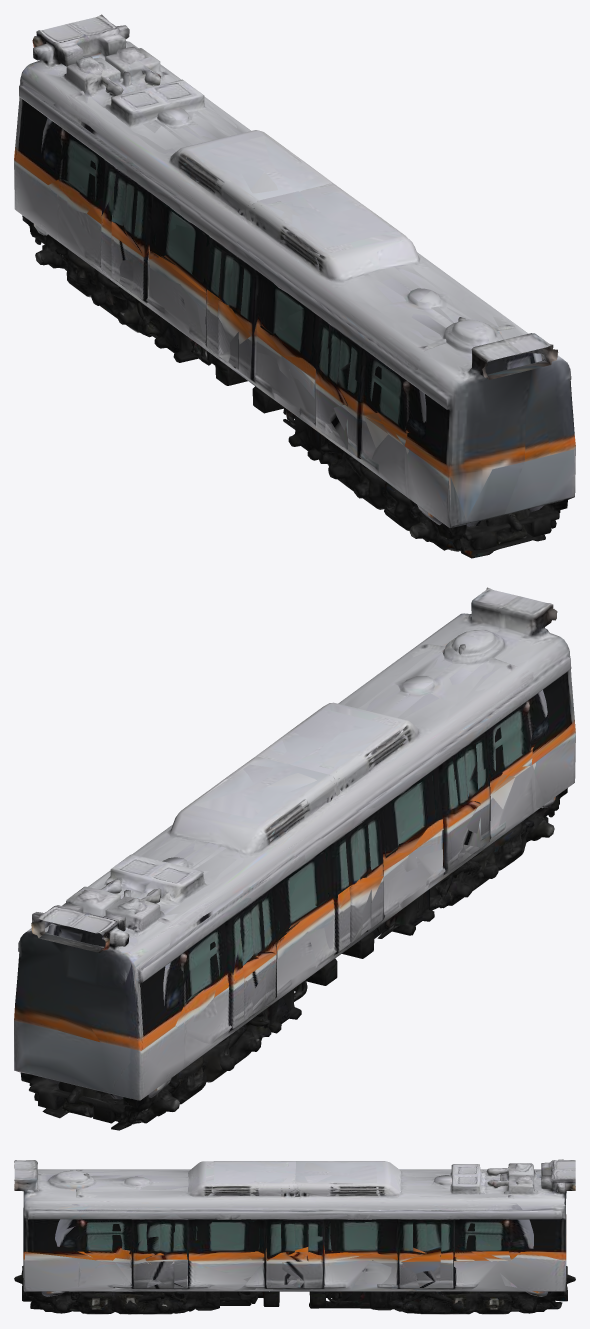
Rendered from tram-silver.glb.
3 views of the same model, one above another, from view 1: azimuth 30°, elevation 25°; view 2: azimuth 150°, elevation 25°; view 3: azimuth 270°, elevation 25° (orthographic). The views are drawn at different scales.
Parts seen in each view (by area): view 1: tramA, tramB; view 2: tramB, tramA; view 3: tramB, tramA.
Boxes of the visible parts, bbox=[...] form: tramA: bbox=[33, 70, 575, 558]; tramB: bbox=[14, 14, 544, 549]; tramB: bbox=[14, 644, 555, 1130]; tramA: bbox=[44, 587, 575, 1122]; tramB: bbox=[14, 1159, 575, 1314]; tramA: bbox=[14, 1160, 575, 1314].
Size of the model in its own units: 2.5 by 3.7 by 14.01.
1 material, 1 textured.
